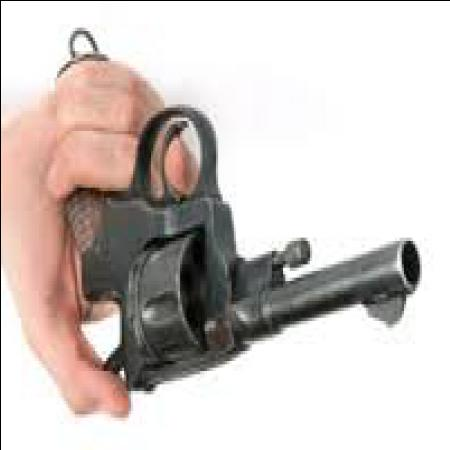Pistol: (54, 60, 421, 400)
